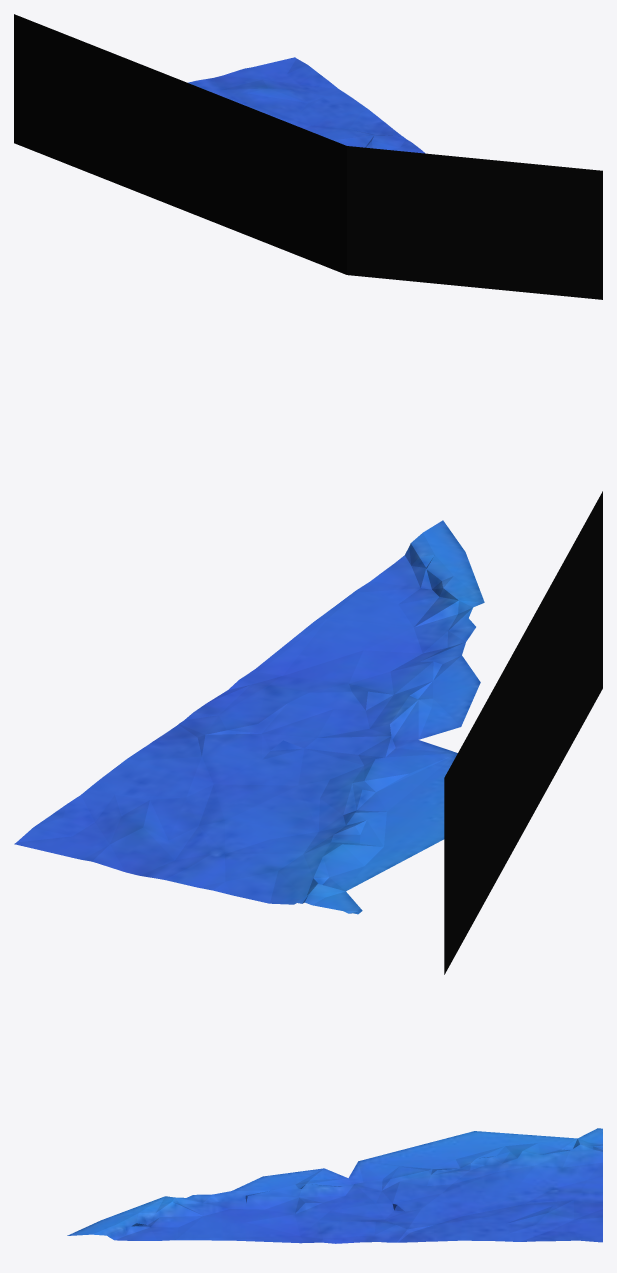
3 views of the same model, one above another, from view 1: azimuth 30°, elevation 25°; view 2: azimuth 150°, elevation 25°; view 3: azimuth 270°, elevation 25° (orthographic). The views are drawn at different scales.
Bounding box in the file's own units: 20.5 × 9 × 38.89.
Materials: 2 (2 with a texture image).
